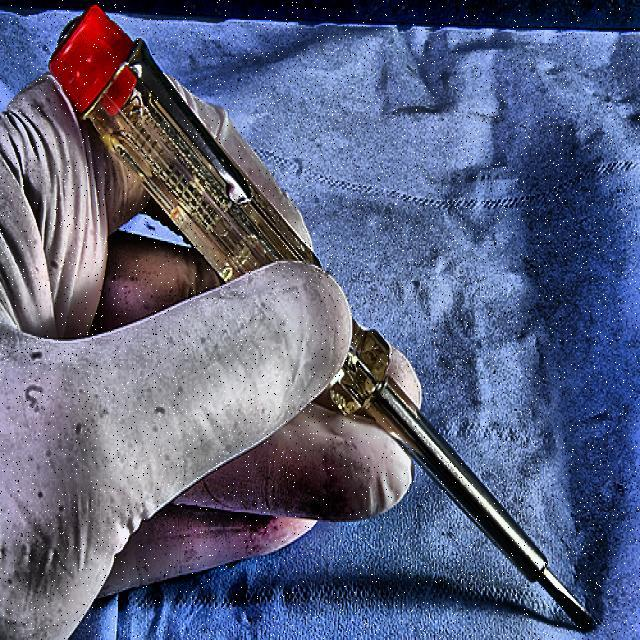screwdriver: (51, 8, 592, 632)
